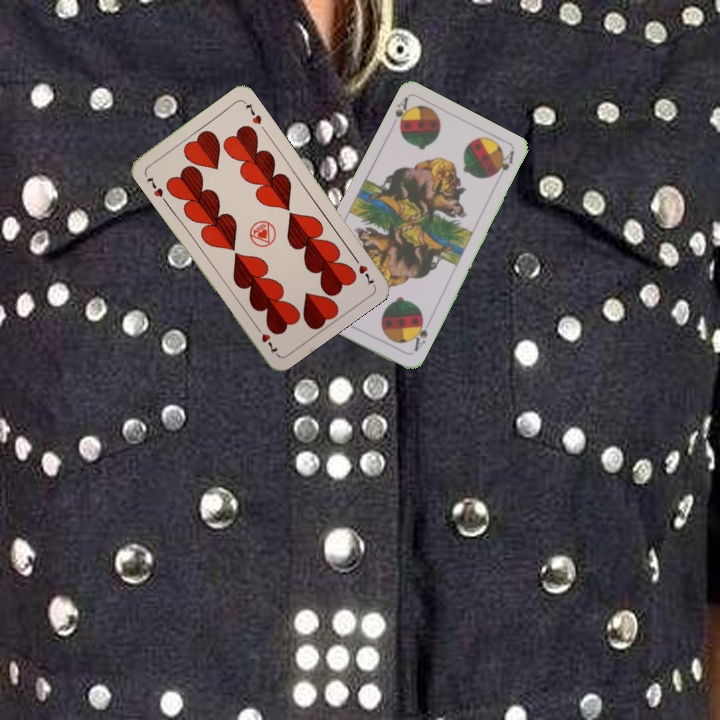H7: (349, 252, 377, 288), (142, 173, 166, 200)
SA: (391, 93, 415, 134), (407, 315, 432, 354)
